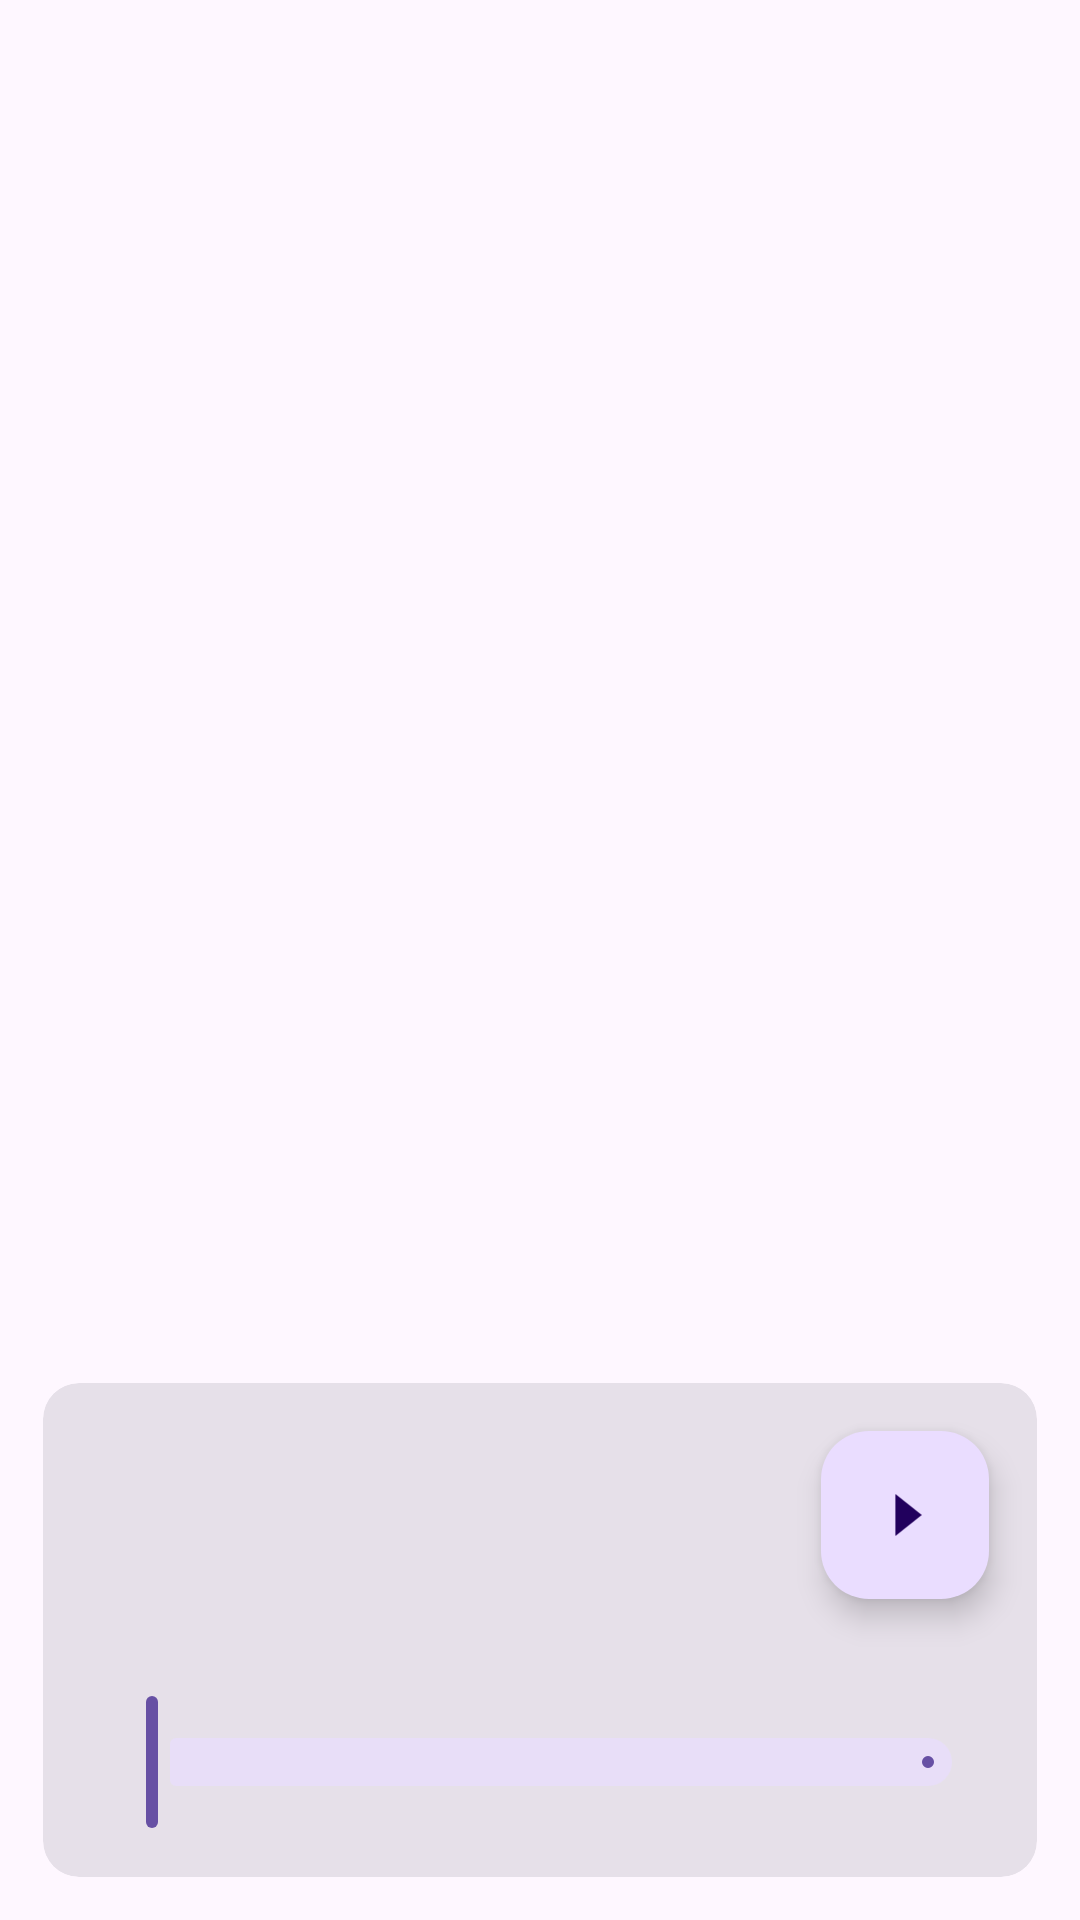

Named icons in this screenshot (1080w x 1920h) and their bounding boxes, (x1, y1, x2, y2):
play arrow: (821, 1431, 989, 1599)
